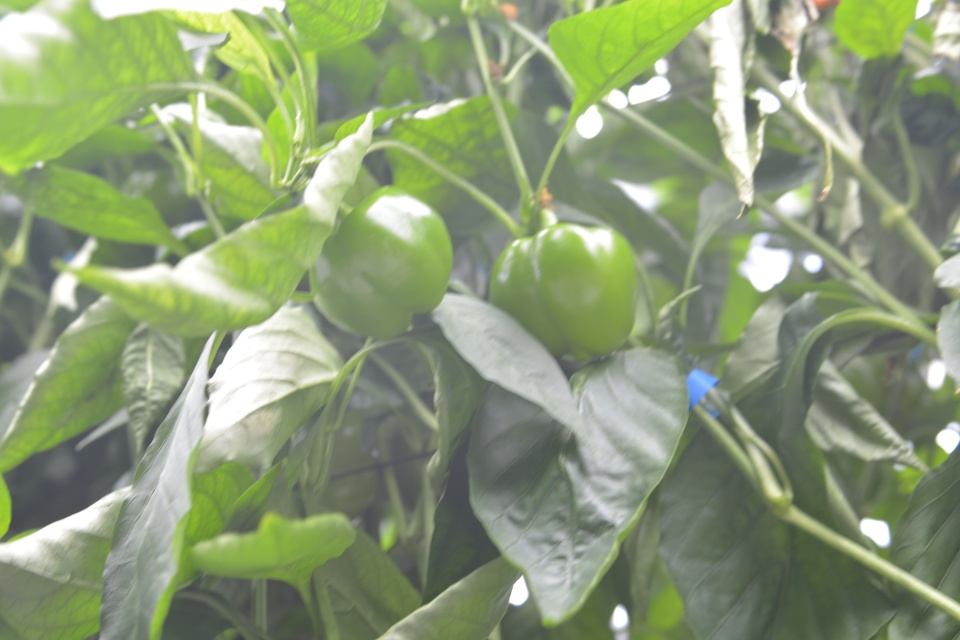fruit: (307, 183, 456, 340), (487, 219, 640, 368)
